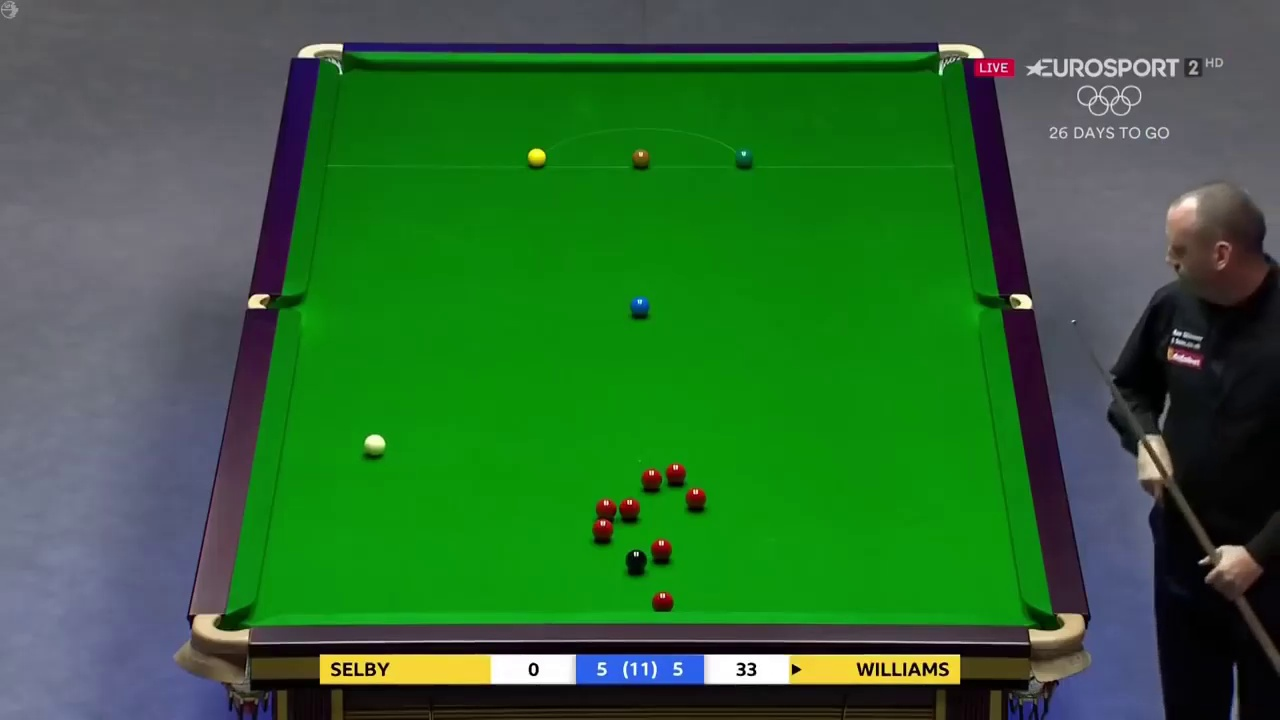black: (625, 549, 647, 572)
blue: (630, 297, 651, 316)
brown: (633, 149, 650, 169)
green: (736, 146, 755, 168)
red: (684, 485, 708, 508), (650, 538, 673, 561), (618, 495, 638, 519), (639, 470, 662, 490), (666, 460, 685, 484), (594, 520, 614, 542), (653, 592, 673, 612)
white: (364, 433, 387, 458)
yellow: (524, 146, 546, 169)
